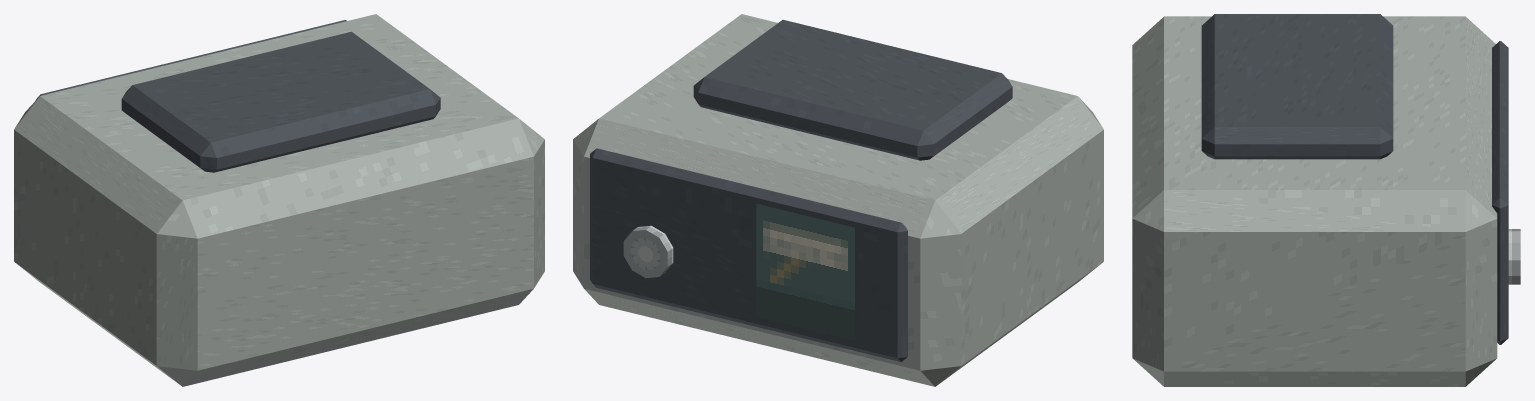
The model's file is spectrophotometer.glb.
3 views of the same model, side by side, from view 1: azimuth 30°, elevation 25°; view 2: azimuth 150°, elevation 25°; view 3: azimuth 270°, elevation 25° (orthographic). The views are drawn at different scales.
Parts seen in each view (by area): view 1: block_instrument housing, block_sample lid, block_instrument control panel; view 2: block_instrument housing, block_instrument control panel, block_sample lid, block_instrument readout, block_control knob; view 3: block_instrument housing, block_sample lid, block_instrument control panel, block_control knob.
Part boxes in pixels (x1,y1,x2,y2): block_instrument housing: [14, 14, 544, 386]; block_sample lid: [121, 31, 440, 172]; block_instrument control panel: [35, 20, 346, 100]; block_instrument housing: [573, 14, 1103, 386]; block_instrument control panel: [590, 148, 907, 361]; block_sample lid: [693, 19, 1012, 160]; block_instrument readout: [756, 203, 854, 340]; block_control knob: [623, 225, 673, 278]; block_instrument housing: [1132, 16, 1497, 386]; block_sample lid: [1201, 14, 1393, 159]; block_instrument control panel: [1492, 41, 1508, 344]; block_control knob: [1508, 229, 1520, 284].
Size of the model in its own units: 0.2394 by 0.1262 by 0.1962.
Materials: 1 (1 with a texture image).
